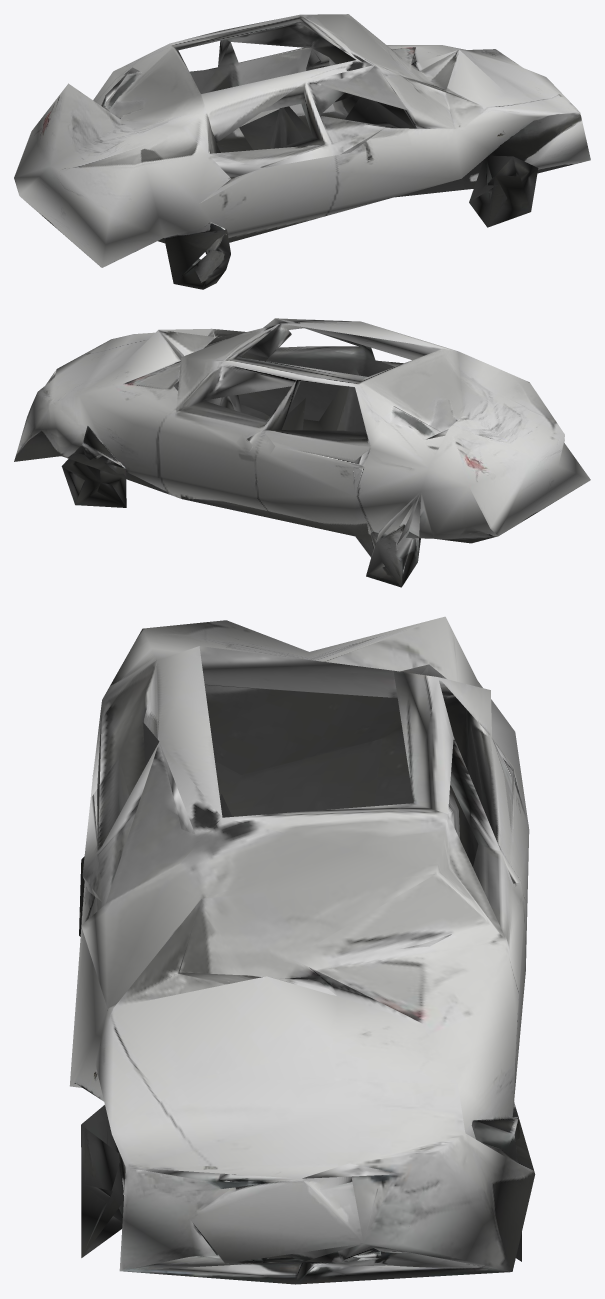
File: crushed_sports_car.glb
The picture shows the model from 3 angles, top to bottom: view 1: azimuth 30°, elevation 25°; view 2: azimuth 150°, elevation 25°; view 3: azimuth 270°, elevation 25°; orthographic projection. The views are drawn at different scales.
Parts seen in each view (by area): view 1: aiprintgen_node_19ddebe1-c997-47c7-b760-0d1a44ebeebf; view 2: aiprintgen_node_19ddebe1-c997-47c7-b760-0d1a44ebeebf; view 3: aiprintgen_node_19ddebe1-c997-47c7-b760-0d1a44ebeebf.
Boxes of the visible parts, <box> form: aiprintgen_node_19ddebe1-c997-47c7-b760-0d1a44ebeebf: <box>14,14,590,289</box>; aiprintgen_node_19ddebe1-c997-47c7-b760-0d1a44ebeebf: <box>14,318,590,587</box>; aiprintgen_node_19ddebe1-c997-47c7-b760-0d1a44ebeebf: <box>69,616,535,1284</box>.
Size of the model in its own units: 1 by 0.3327 by 0.4037.
1 material, 1 textured.
